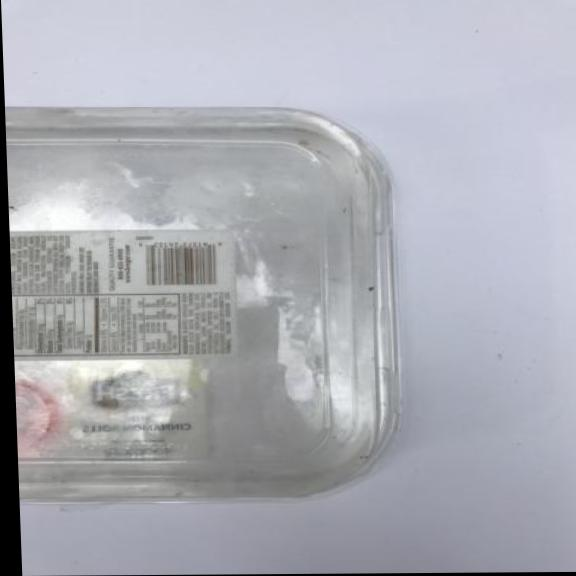Plastik: (4, 102, 411, 511)
